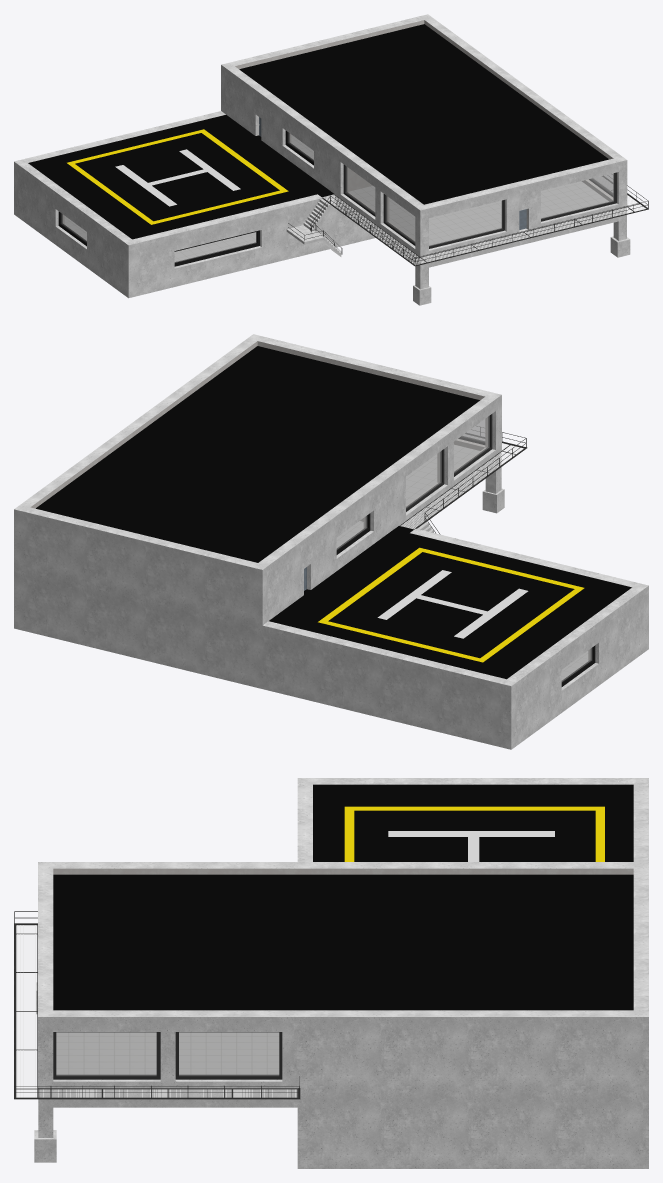
The model's file is military_hq_building.gltf.
3 views of the same model, one above another, from view 1: azimuth 30°, elevation 25°; view 2: azimuth 150°, elevation 25°; view 3: azimuth 270°, elevation 25° (orthographic). The views are drawn at different scales.
Parts seen in each view (by area): view 1: Walls_Outer_Walls_0-col, roof_2_Roof_2_0-col, roof_1_Roof_2_0-col, Walls_Floor_2_0-col, Walls_Inner_walls_0-col, metal_walk_Metal_Walk_0-col, Glass__3, Glass__4, roof_1_Roof_4_0-col, roof_1_Roof_3_0-col, metal_walk_Railing_0-col, Floor_Floor_2_0-col (+9 smaller); view 2: Walls_Outer_Walls_0-col, roof_2_Roof_2_0-col, roof_1_Roof_2_0-col, Walls_Inner_walls_0-col, roof_1_Roof_4_0-col, roof_1_Roof_3_0-col, metal_walk_Metal_Walk_0-col, Walls_Floor_2_0-col, Glass, Glass_, Window_1_Railing_0-col; view 3: Walls_Outer_Walls_0-col, roof_2_Roof_2_0-col, roof_1_Roof_2_0-col, Walls_Floor_2_0-col, metal_walk_Metal_Walk_0-col, Glass__2, Glass__1, Walls_Inner_walls_0-col, roof_1_Roof_4_0-col, metal_walk_Railing_0-col, window_2_1_Railing_0-col, roof_1_Roof_3_0-col (+1 smaller).
Part boxes in pixels (left/top/right/bottom): Walls_Outer_Walls_0-col: left=14, top=14, right=630, bottom=305; roof_2_Roof_2_0-col: left=239, top=24, right=608, bottom=204; roof_1_Roof_2_0-col: left=28, top=115, right=334, bottom=239; Walls_Floor_2_0-col: left=349, top=181, right=608, bottom=245; Walls_Inner_walls_0-col: left=34, top=20, right=613, bottom=241; metal_walk_Metal_Walk_0-col: left=323, top=178, right=645, bottom=265; Glass__3: left=541, top=173, right=614, bottom=218; Glass__4: left=429, top=200, right=502, bottom=246; roof_1_Roof_4_0-col: left=67, top=129, right=288, bottom=224; roof_1_Roof_3_0-col: left=115, top=149, right=240, bottom=206; metal_walk_Railing_0-col: left=322, top=176, right=648, bottom=266; Floor_Floor_2_0-col: left=64, top=216, right=255, bottom=261; Walls_Outer_Walls_0-col: left=14, top=334, right=648, bottom=749; roof_2_Roof_2_0-col: left=36, top=346, right=479, bottom=562; roof_1_Roof_2_0-col: left=269, top=526, right=631, bottom=679; Walls_Inner_walls_0-col: left=30, top=341, right=624, bottom=660; roof_1_Roof_4_0-col: left=318, top=547, right=584, bottom=662; roof_1_Roof_3_0-col: left=377, top=570, right=528, bottom=638; metal_walk_Metal_Walk_0-col: left=401, top=437, right=523, bottom=529; Walls_Floor_2_0-col: left=406, top=444, right=479, bottom=505; Glass: left=406, top=451, right=441, bottom=507; Glass_: left=454, top=416, right=489, bottom=472; Window_1_Railing_0-col: left=406, top=414, right=492, bottom=511; Walls_Outer_Walls_0-col: left=34, top=778, right=648, bottom=1168; roof_2_Roof_2_0-col: left=53, top=874, right=633, bottom=1010; roof_1_Roof_2_0-col: left=313, top=784, right=633, bottom=861; Walls_Floor_2_0-col: left=56, top=1032, right=279, bottom=1074; metal_walk_Metal_Walk_0-col: left=17, top=925, right=296, bottom=1097; Glass__2: left=56, top=1032, right=156, bottom=1075; Glass__1: left=179, top=1032, right=279, bottom=1075; Walls_Inner_walls_0-col: left=53, top=868, right=633, bottom=874; roof_1_Roof_4_0-col: left=344, top=806, right=604, bottom=861; metal_walk_Railing_0-col: left=14, top=923, right=300, bottom=1099; window_2_1_Railing_0-col: left=53, top=1032, right=282, bottom=1079; roof_1_Roof_3_0-col: left=388, top=831, right=554, bottom=861.
Size of the model in its own units: 49.63 by 11 by 41.59.
Materials: 14 (8 with a texture image).
